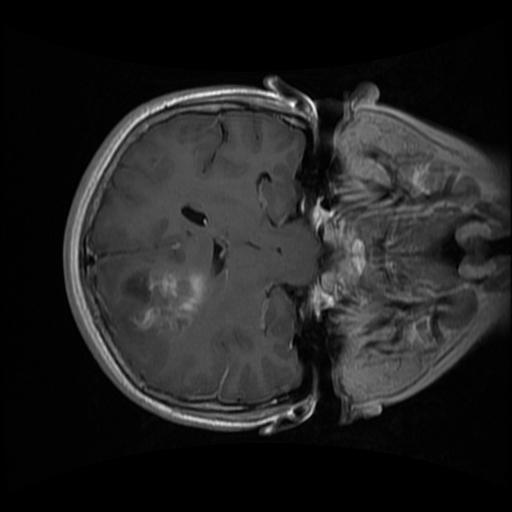glioma: (115, 258, 211, 332)
